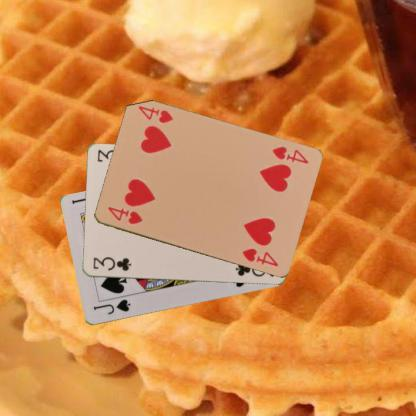3c: (90, 254, 132, 273)
4h: (269, 144, 309, 165), (105, 204, 143, 226)
Js: (90, 297, 132, 316)
